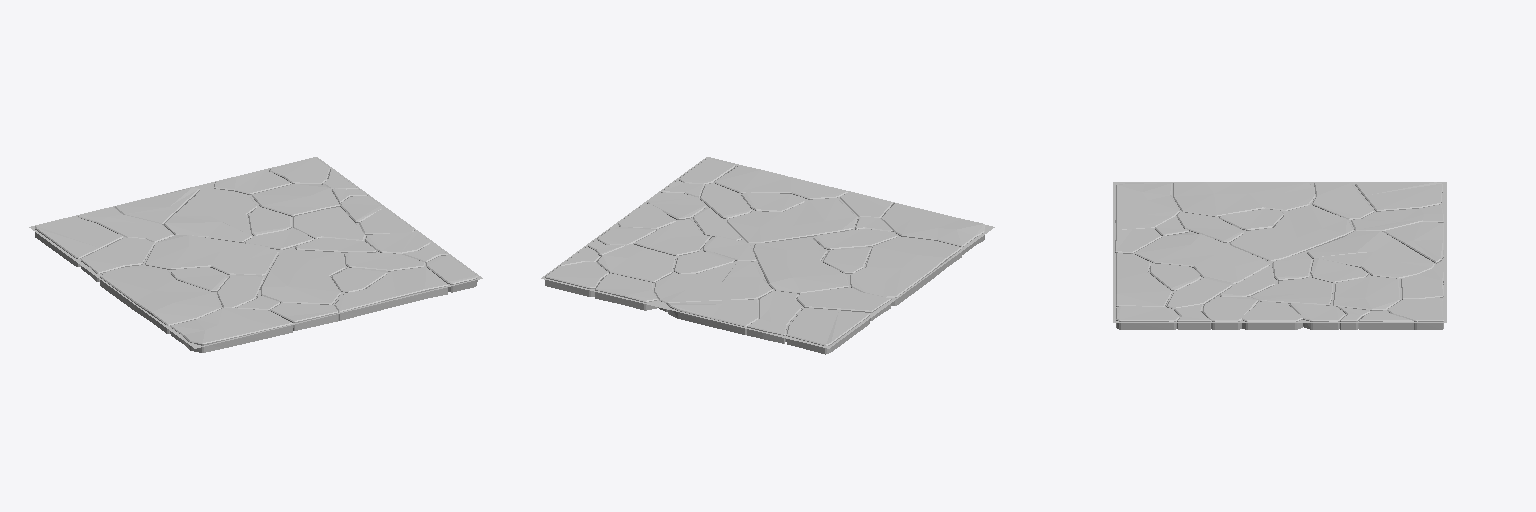
Rendered from FloorTile.obj.
3 views of the same model, side by side, from view 1: azimuth 30°, elevation 25°; view 2: azimuth 150°, elevation 25°; view 3: azimuth 270°, elevation 25° (orthographic).
Visible parts, largest first — view 1: FloorTIle; view 2: FloorTIle; view 3: FloorTIle.
Part boxes in pixels (left/top/right/bottom): FloorTIle: left=29, top=157, right=482, bottom=352; FloorTIle: left=541, top=157, right=994, bottom=354; FloorTIle: left=1113, top=182, right=1446, bottom=329.
Size of the model in its own units: 4 by 0.1439 by 4.